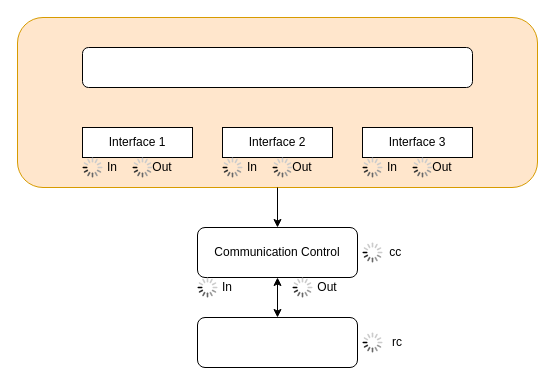
Image size: 555x385. Some labels were removed from this diagram. The shapes that lost their labels are listed below. From the top down, each one's box as (x1, y1, x2, y2) in pixels, then its label:
(82, 46, 472, 88): V2X Interface Control
(196, 316, 358, 368): V2X Routing Middleware
